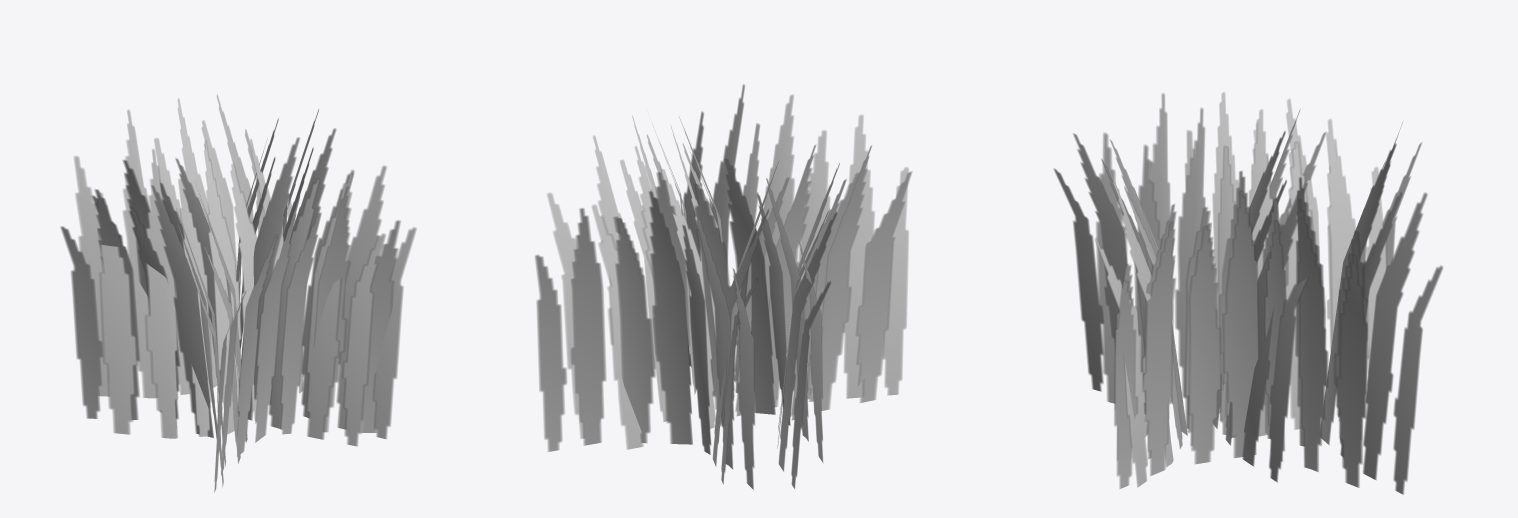
The model's file is grass_px_2.glb.
3 views of the same model, side by side, from view 1: azimuth 30°, elevation 25°; view 2: azimuth 150°, elevation 25°; view 3: azimuth 270°, elevation 25° (orthographic). The views are drawn at different scales.
Parts seen in each view (by area): view 1: grass_px.005; view 2: grass_px.005; view 3: grass_px.005.
Part boxes in pixels (x1=…): grass_px.005: x1=60, y1=94, x2=416, y2=492; grass_px.005: x1=535, y1=84, x2=911, y2=489; grass_px.005: x1=1054, y1=92, x2=1442, y2=494.
Bounding box in the file's own units: 1.14 × 0.9318 × 1.28.
1 material, 1 textured.
